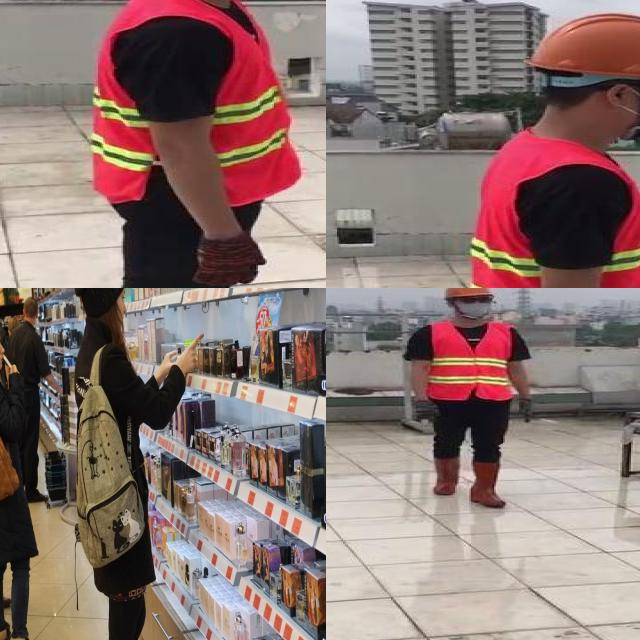boots: (469, 462, 512, 508), (434, 457, 460, 495)
face_mask: (456, 294, 497, 318)
glasses: (458, 294, 492, 306)
hand_glove: (189, 235, 267, 285), (508, 396, 537, 424), (412, 404, 438, 424)
head_helmet: (520, 9, 640, 89), (440, 288, 497, 299)
person: (73, 0, 326, 288), (449, 10, 640, 288), (399, 288, 547, 513)
vest: (92, 0, 297, 204), (468, 134, 640, 288), (424, 320, 514, 402)
